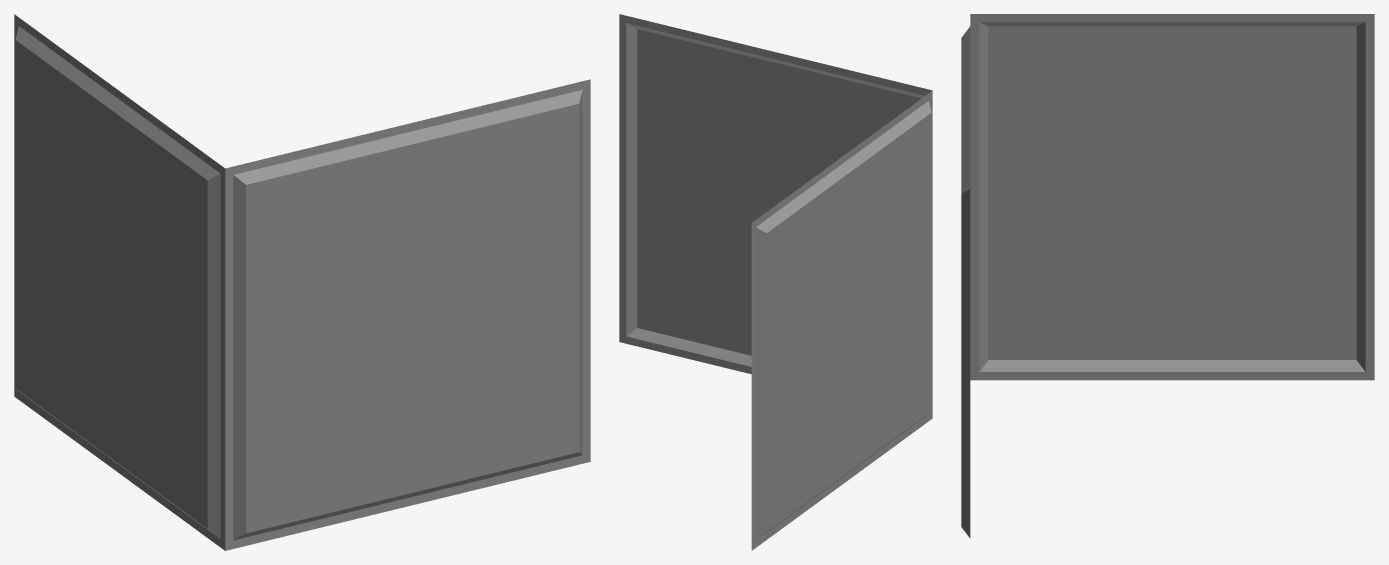
The model's file is Wall_02_Corner.FBX.
3 renders of one model, left to right at view 1: azimuth 30°, elevation 25°; view 2: azimuth 150°, elevation 25°; view 3: azimuth 270°, elevation 25°, orthographic. The views are drawn at different scales.
Parts seen in each view (by area): view 1: Wall_02_Corner_LOD0; view 2: Wall_02_Corner_LOD0; view 3: Wall_02_Corner_LOD0.
Part boxes in pixels (bbox=[...]): Wall_02_Corner_LOD0: bbox=[14, 14, 590, 550]; Wall_02_Corner_LOD0: bbox=[619, 14, 932, 550]; Wall_02_Corner_LOD0: bbox=[961, 14, 1374, 538].
Size of what is drawn, in the model's own units: 184 by 180 by 184.
